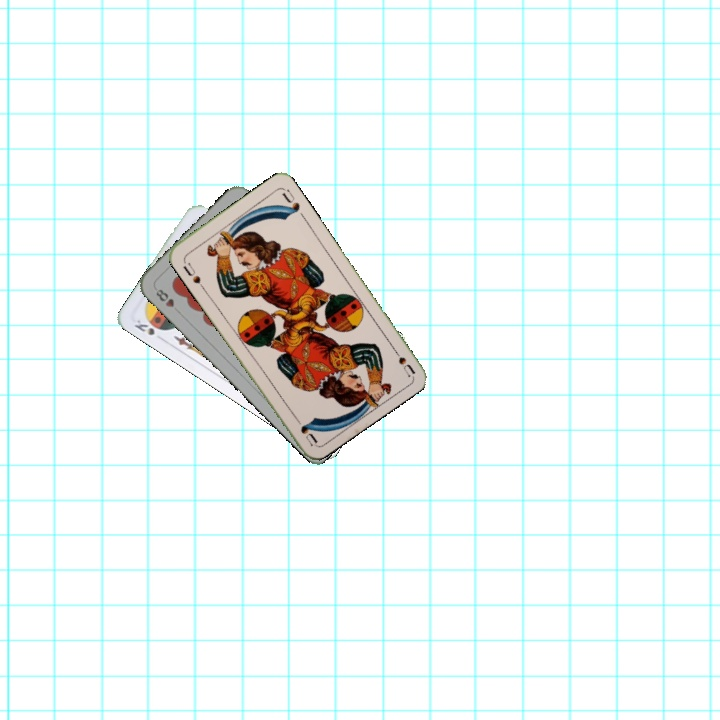H8: (152, 285, 177, 310)
SK: (130, 315, 157, 338)
SU: (387, 341, 417, 378), (178, 255, 207, 292)
